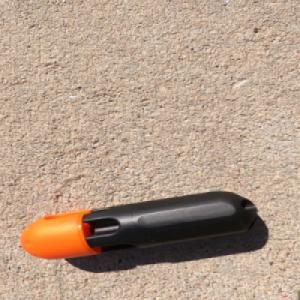PlasticPart: (16, 189, 260, 260)
